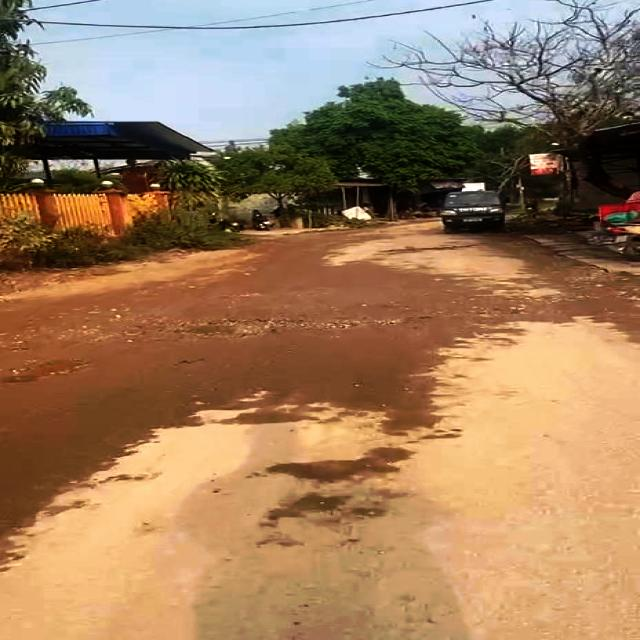pothole: (174, 316, 361, 341), (0, 357, 87, 385)
